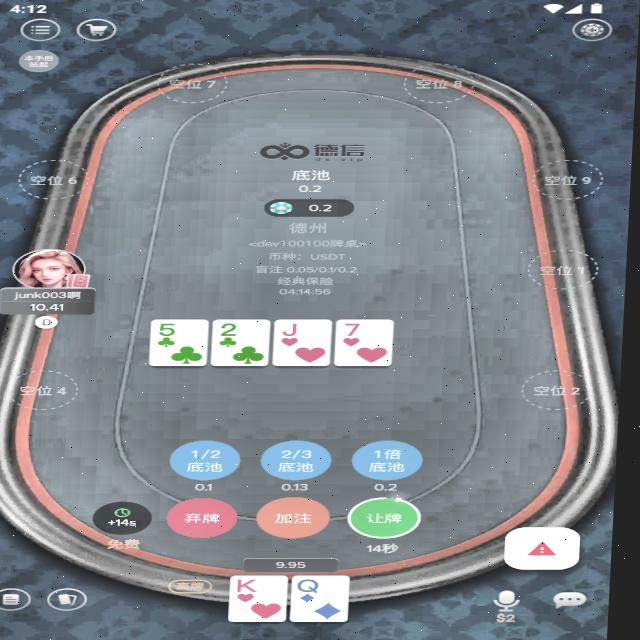2m: (220, 320, 244, 338)
5m: (158, 320, 183, 338)
7h: (344, 321, 367, 337)
Jh: (283, 320, 306, 338)
Kh: (239, 578, 268, 594)
Qf: (302, 577, 326, 595)
